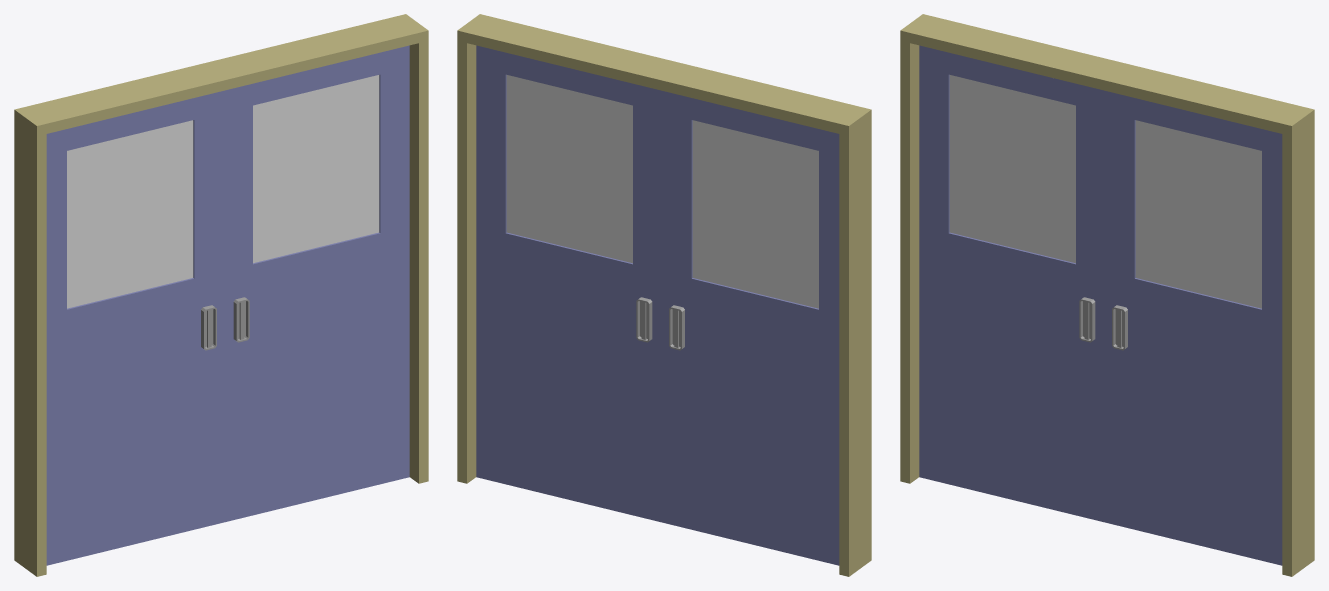
The model's file is PuertaBAula.fbx.
3 views of the same model, side by side, from view 1: azimuth 30°, elevation 25°; view 2: azimuth 150°, elevation 25°; view 3: azimuth 330°, elevation 25° (orthographic).
Parts seen in each view (by area): view 1: Cube.002, Cube.001, Cube; view 2: Cube.002, Cube.001, Cube; view 3: Cube.001, Cube.002, Cube.
Part boxes in pixels (bbox=[...]): Cube.002: bbox=[223, 45, 409, 522]; Cube.001: bbox=[46, 91, 223, 565]; Cube: bbox=[14, 14, 428, 576]; Cube.002: bbox=[476, 45, 662, 522]; Cube.001: bbox=[662, 91, 839, 565]; Cube: bbox=[457, 14, 871, 576]; Cube.001: bbox=[919, 45, 1105, 522]; Cube.002: bbox=[1105, 91, 1282, 565]; Cube: bbox=[900, 14, 1314, 576].
Size of the model in its own units: 200 by 220 by 20.
